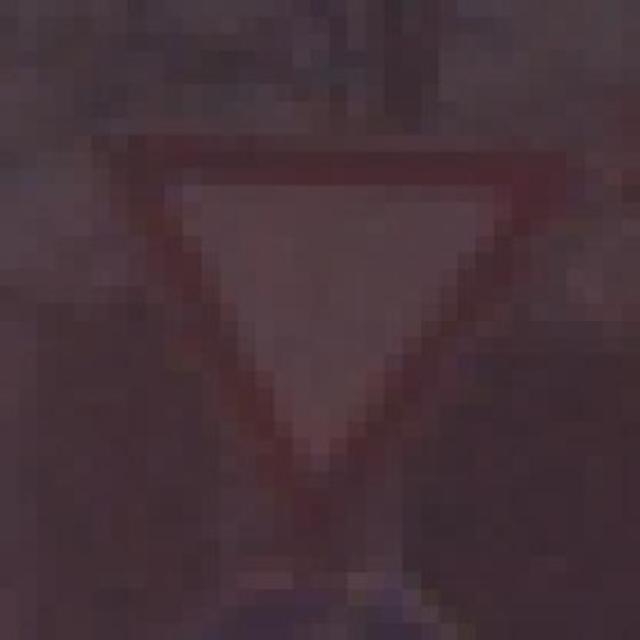Give Way: (73, 118, 567, 573)
